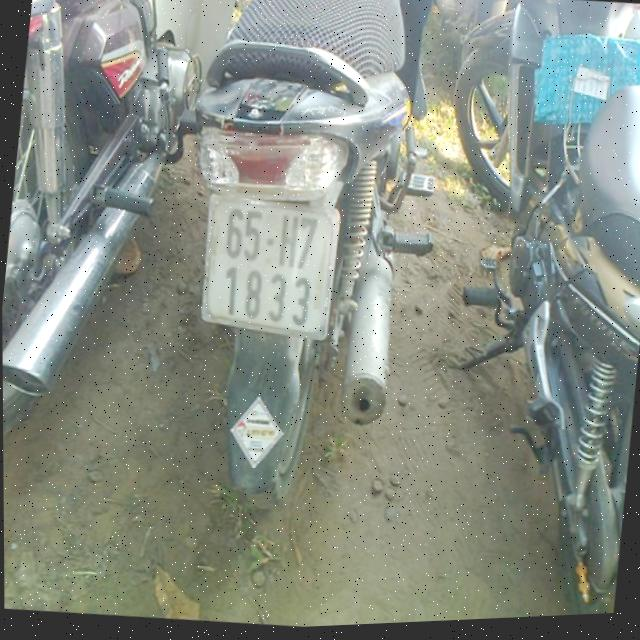motorcycle: (156, 0, 475, 529), (396, 0, 640, 622), (0, 0, 238, 477)
plate: (187, 185, 351, 352)
